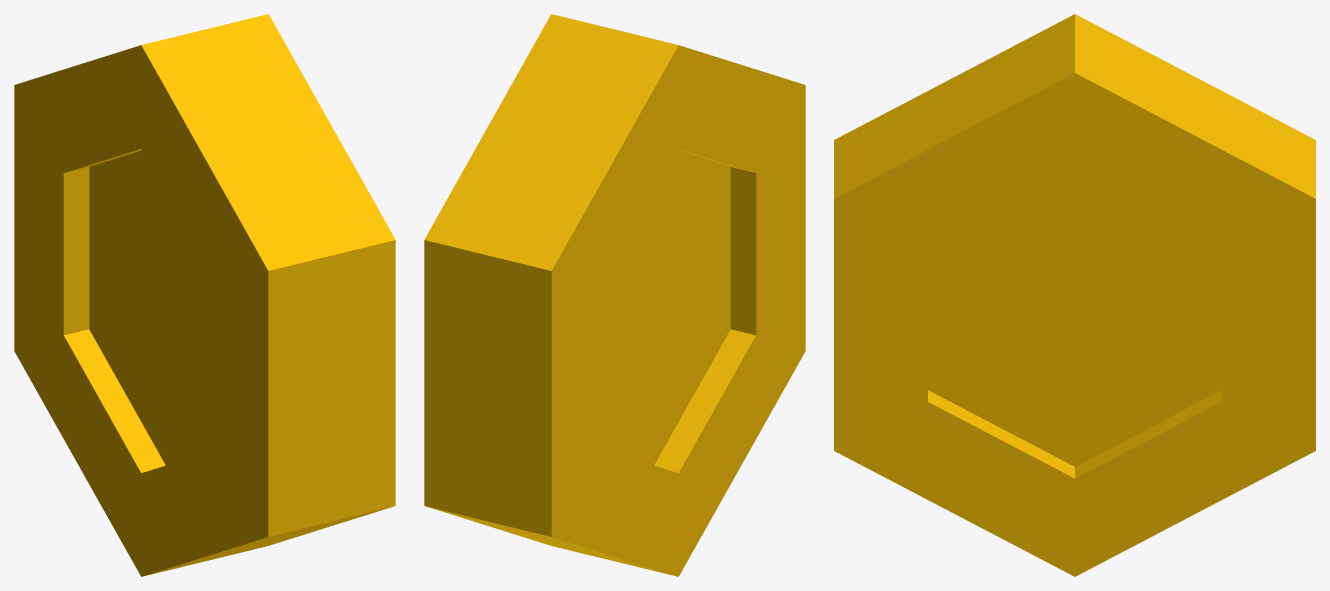
File: coin4.fbx
The picture shows the model from 3 angles, left to right: view 1: azimuth 30°, elevation 25°; view 2: azimuth 150°, elevation 25°; view 3: azimuth 270°, elevation 25°; orthographic projection. The views are drawn at different scales.
Parts seen in each view (by area): view 1: Cylinder.003; view 2: Cylinder.003; view 3: Cylinder.003.
Boxes of the visible parts, bbox=[...] form: Cylinder.003: bbox=[14, 14, 395, 576]; Cylinder.003: bbox=[424, 14, 805, 576]; Cylinder.003: bbox=[834, 14, 1315, 576].
Bounding box in the file's own units: 50.13 × 200 × 173.
